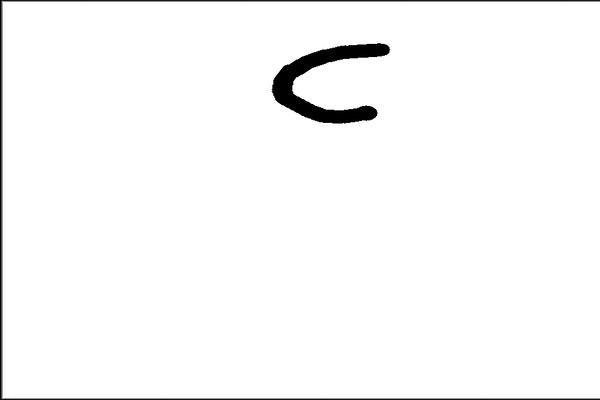C: (265, 33, 395, 131)
